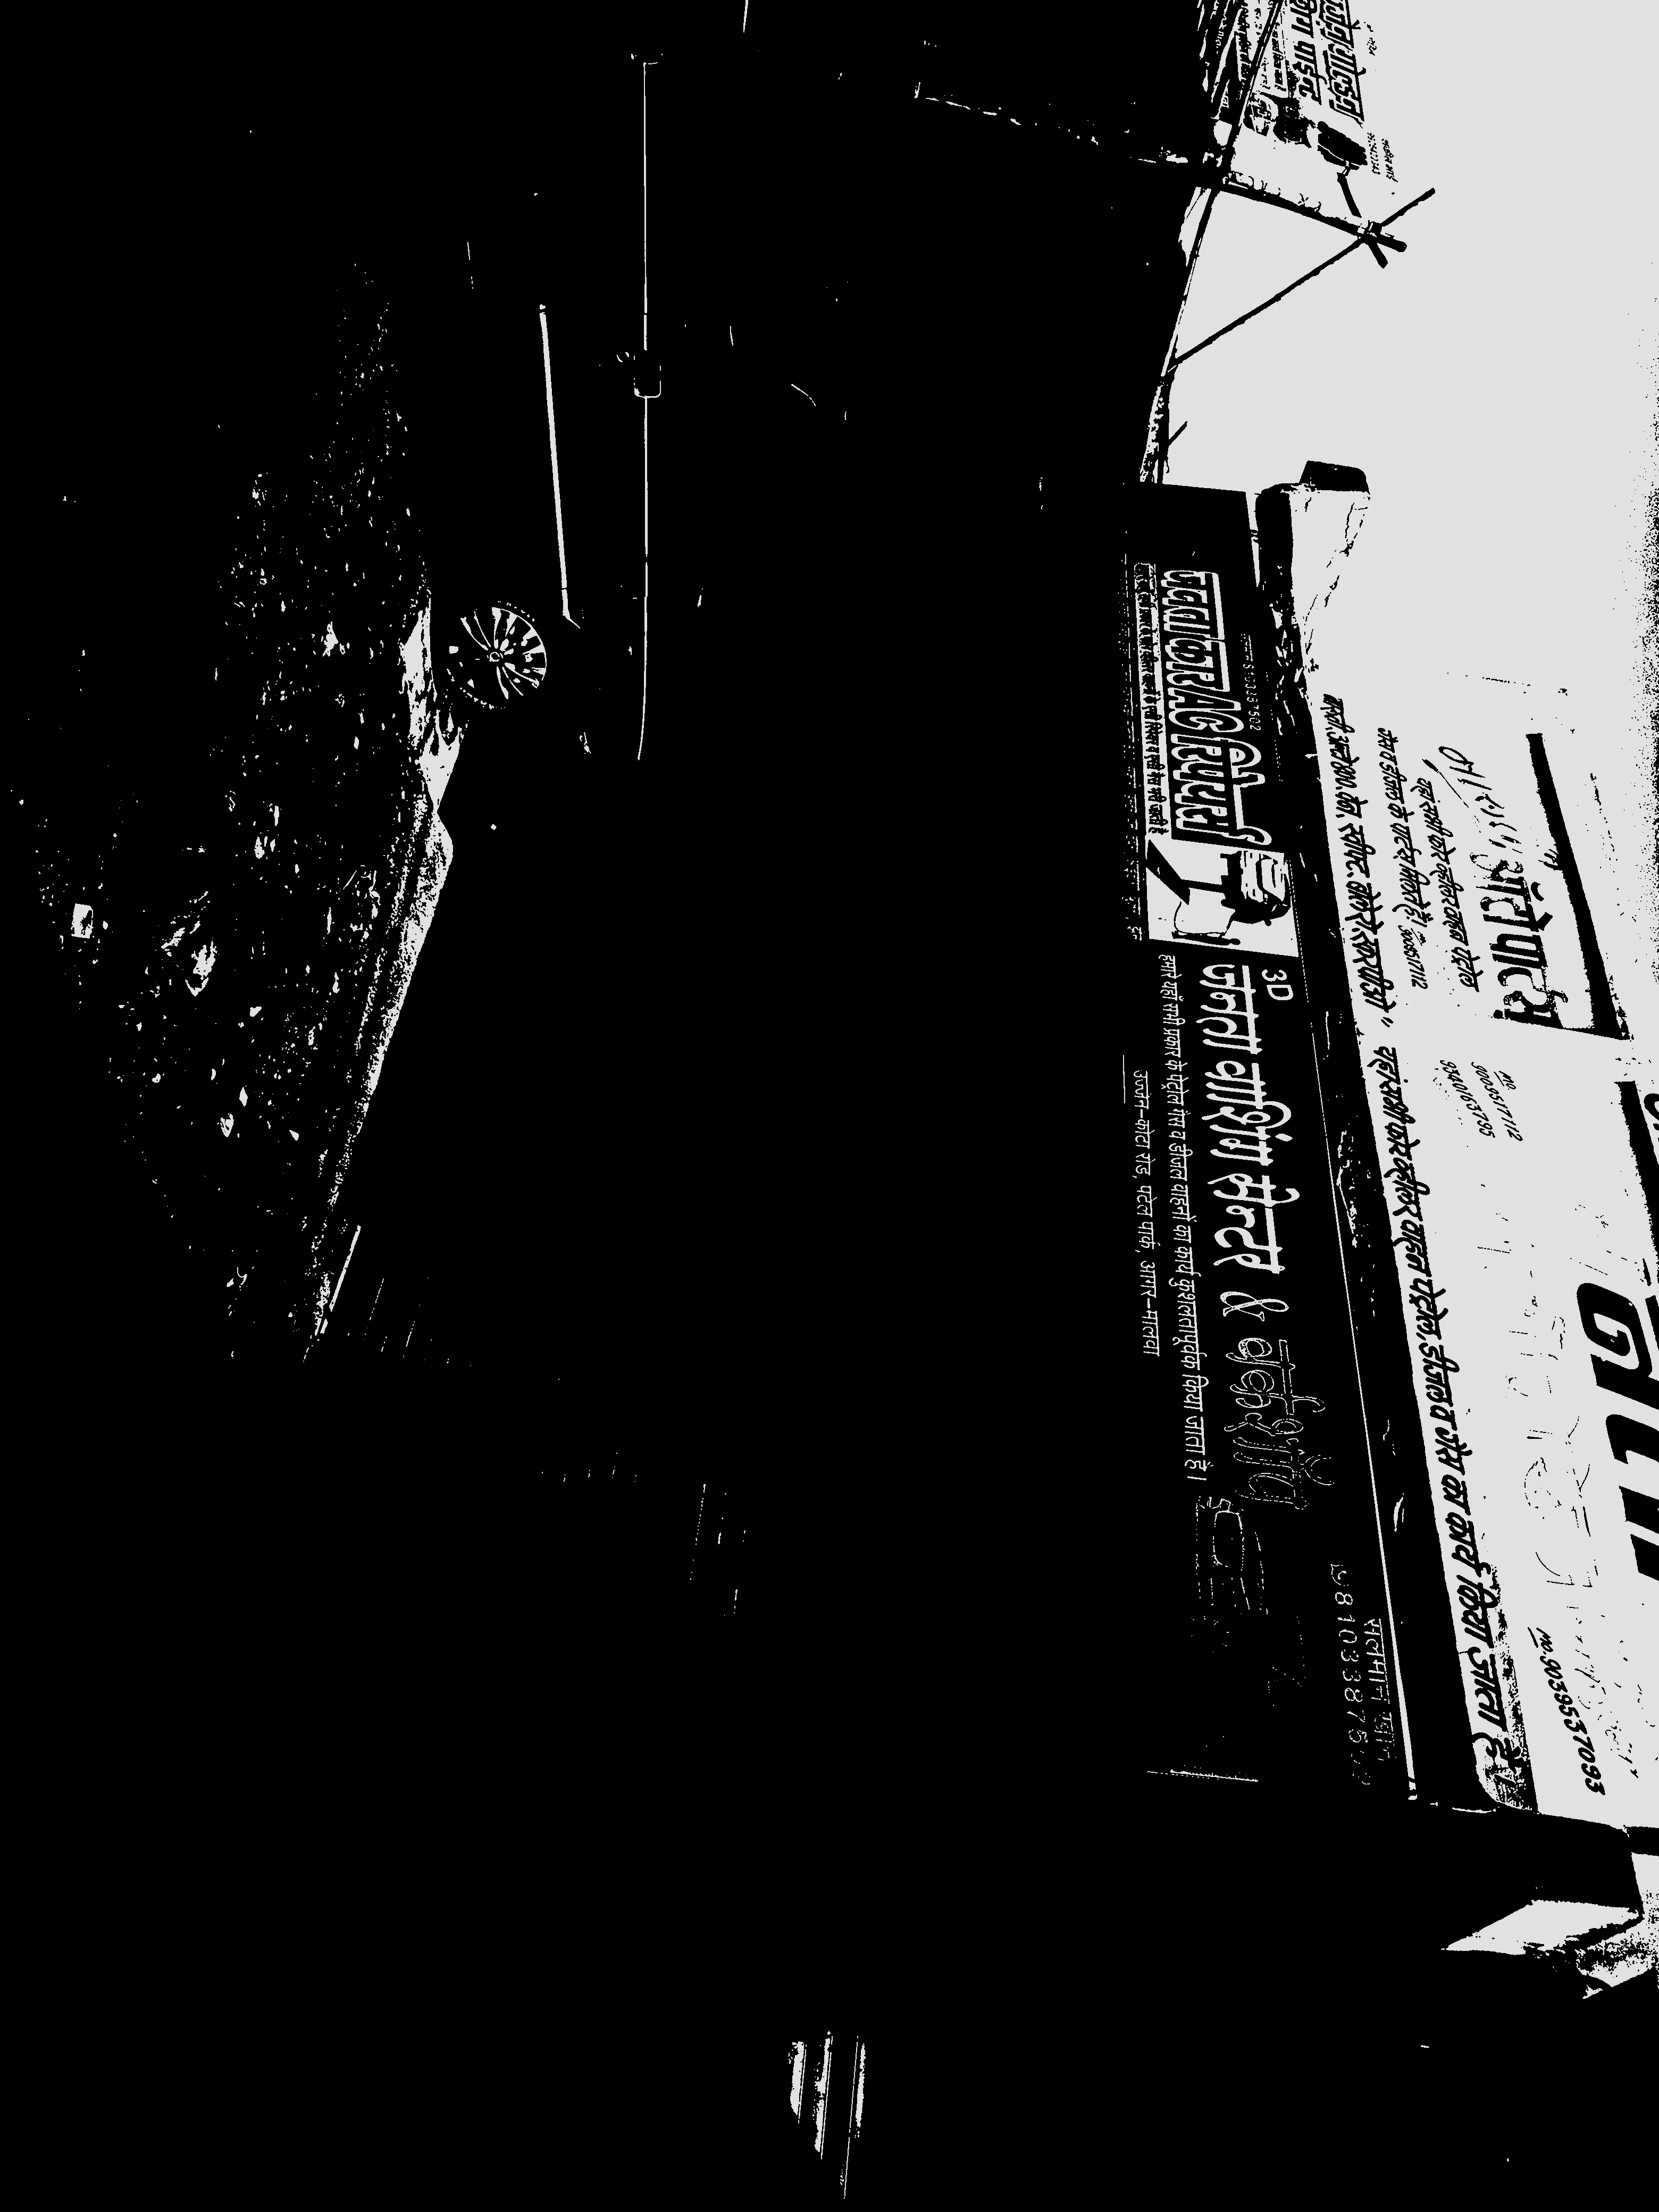text: (1119, 951, 1408, 1801), (1361, 1050, 1659, 1838), (1317, 688, 1563, 1040), (1110, 486, 1291, 932), (1178, 2, 1413, 207)
